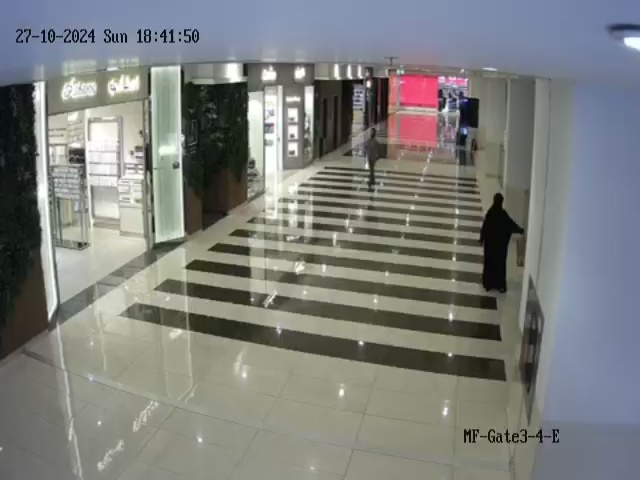female: (479, 192, 525, 294)
male: (366, 129, 380, 185)
